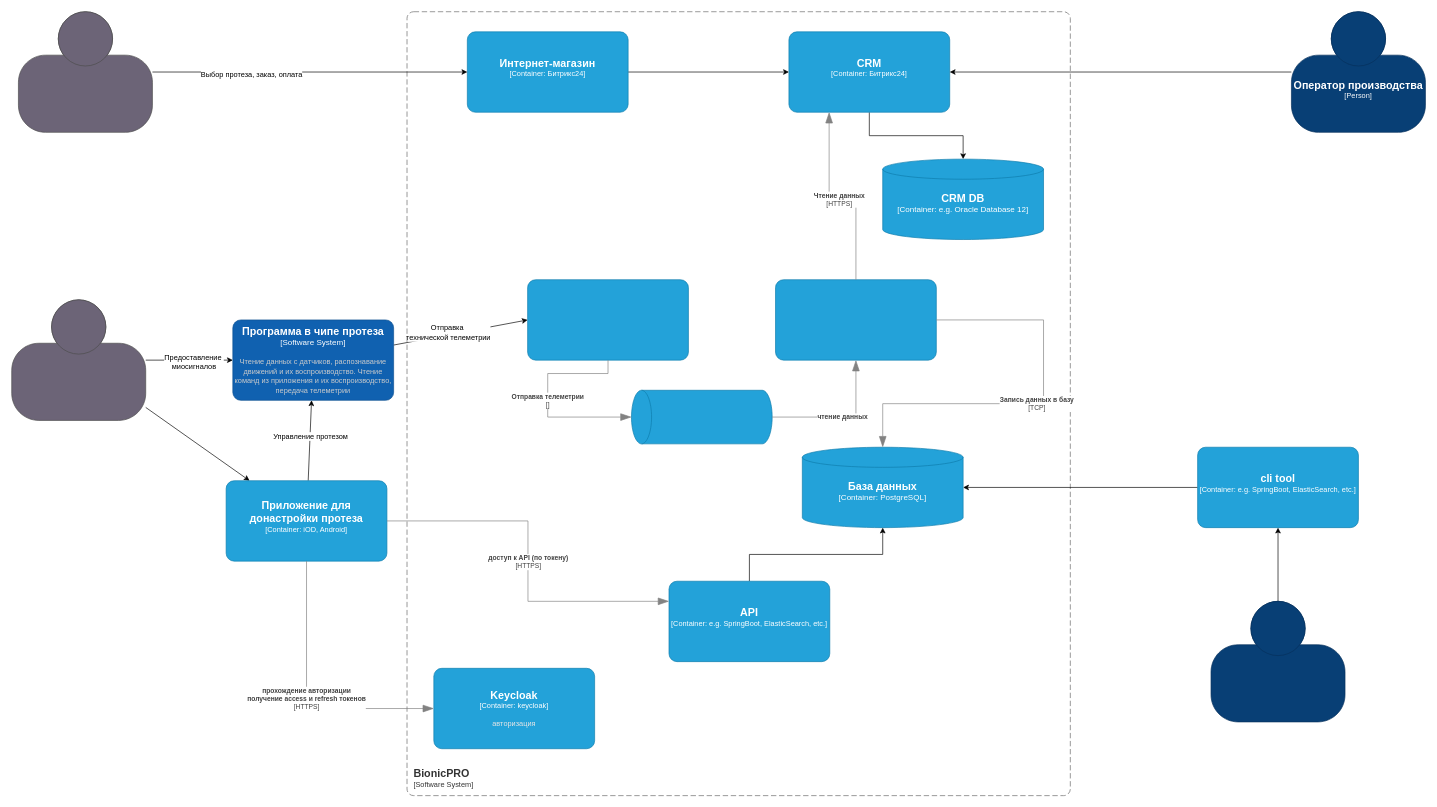
Image size: 1437x807. Some labels were removed from this diagram. Each missing label, with the centre of its shape:
"DAG [Container: Apache AirFlow]" belongs at [855,319].
"ML-инженер [Person]" belongs at [1277,661].
"Sensor Adapter [Container: SpringBoot]" belongs at [607,319].
"Sensors Data [Container: Kafka]" belongs at [701,417].
"Пилот протеза [Person] С этого человека считываются данные" belongs at [78,359].
"Покупатель протеза [Person]" belongs at [85,71].
